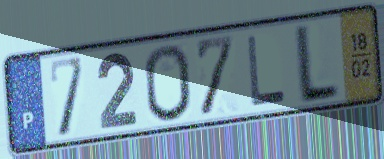2: (95, 49, 141, 134)
7: (194, 32, 237, 120), (49, 54, 85, 140)
L: (294, 21, 342, 108), (244, 33, 289, 109)
O: (141, 42, 194, 125)
